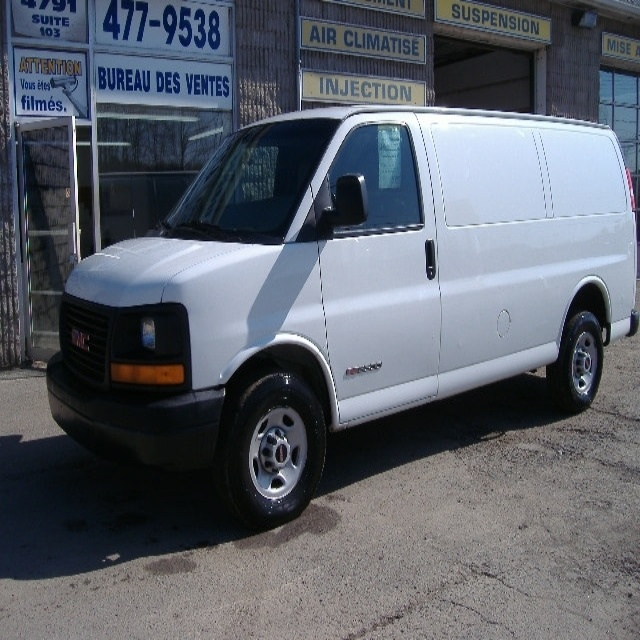Van: (46, 104, 640, 528)
